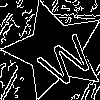W: (30, 25, 98, 90)
